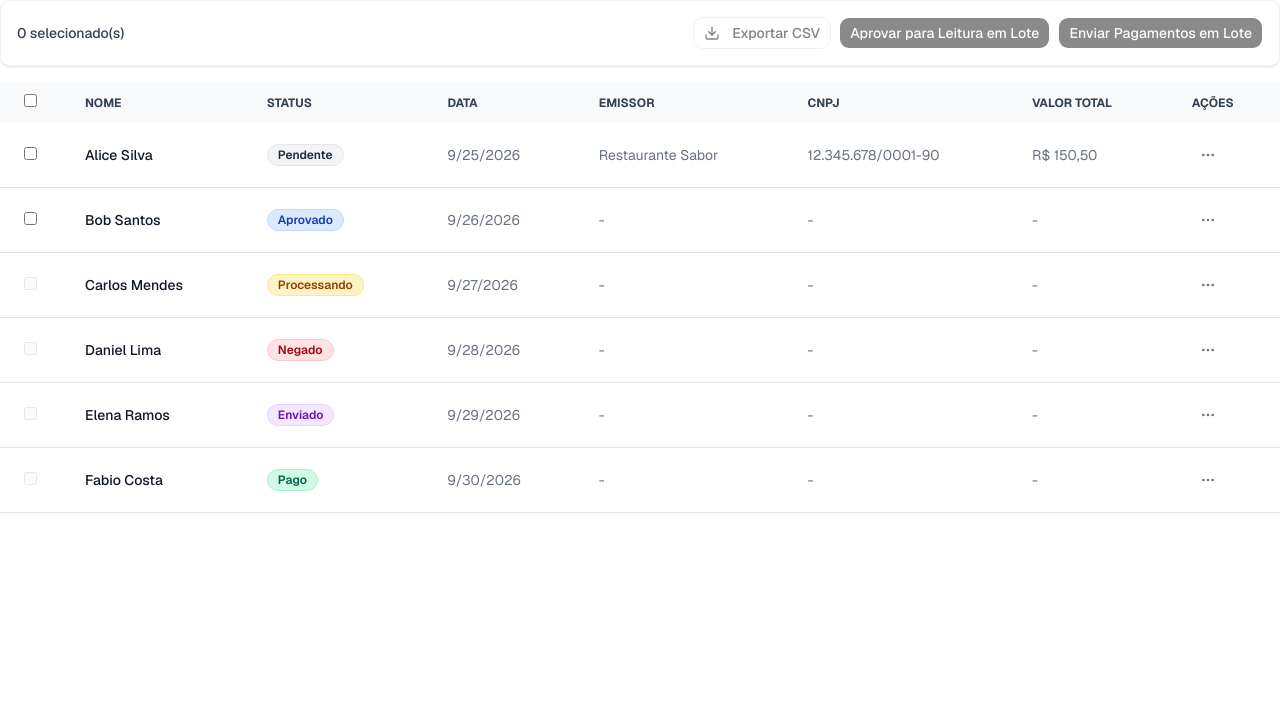
Scenario: RequestsTable › Phase 4 - Extracted Data and AI Actions Integration › should show both 'Visualizar Nota Fiscal' and 'Aprovar para Leitura' in the 3-dots menu for a PENDING row with receipt_file_url
The width and height of the screenshot is (1280, 720).
Click the button named "Abrir menu de ações para Alice Silva": coordinates (1208, 155) 1192,139 -> 1224,171
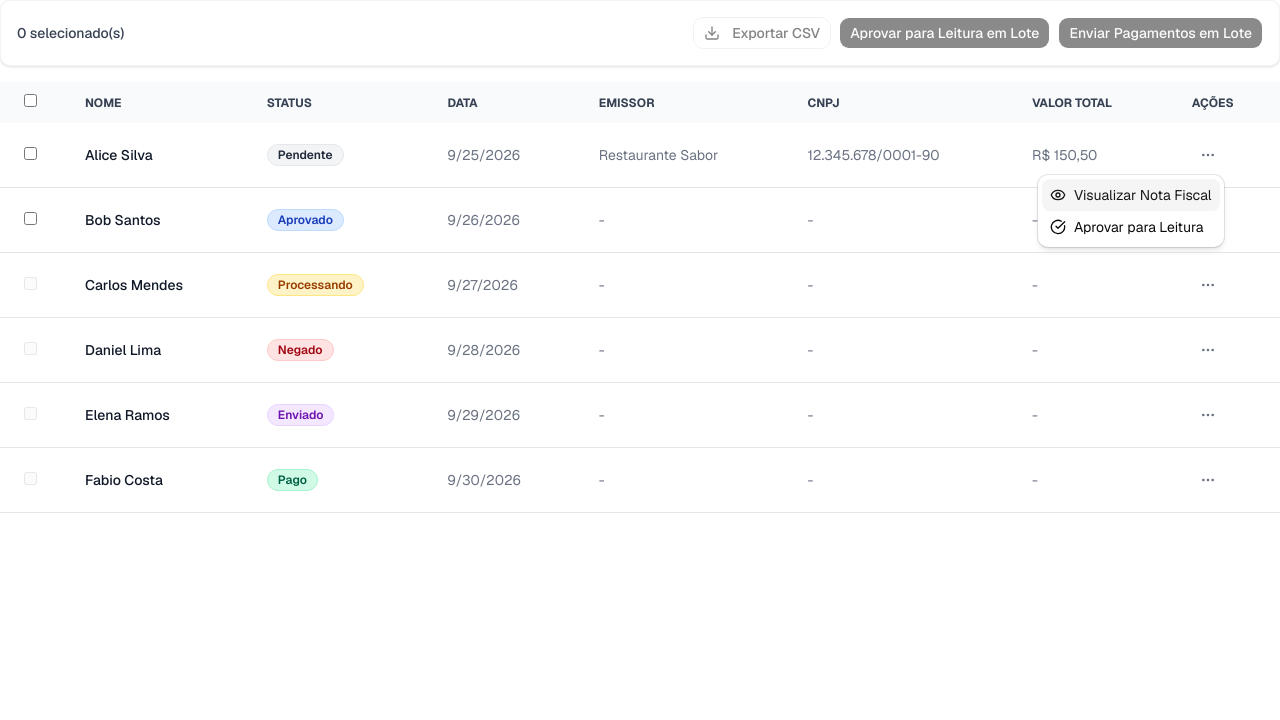
Expected: the menu item "Visualizar Nota Fiscal" is shown, 1042,179 -> 1220,211
Expected: the menu item "Aprovar para Leitura" is shown, 1050,218 -> 1203,236
